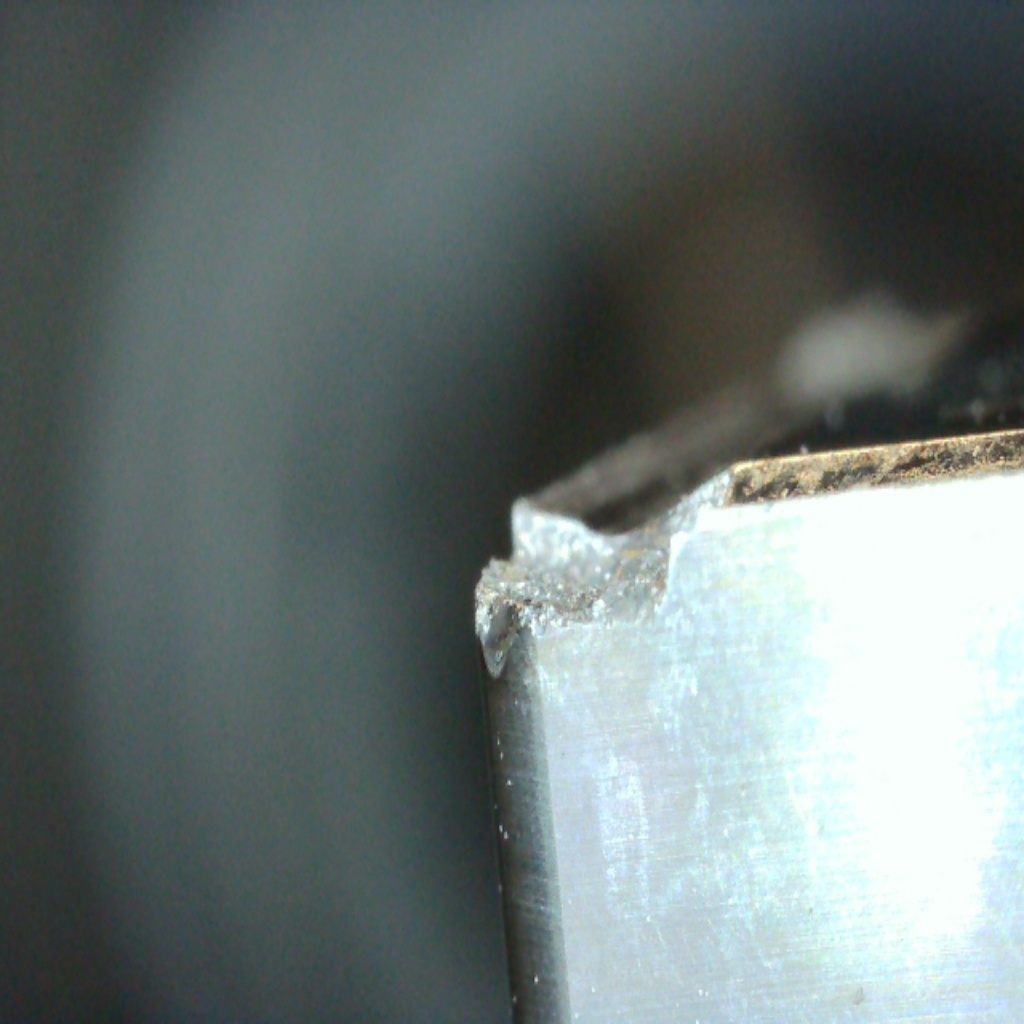flank_wear: (475, 585, 543, 696)
